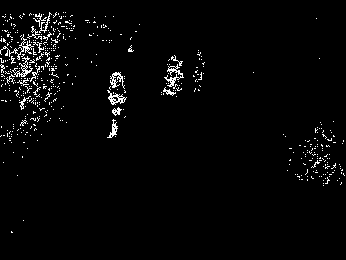person: (104, 70, 127, 140)
